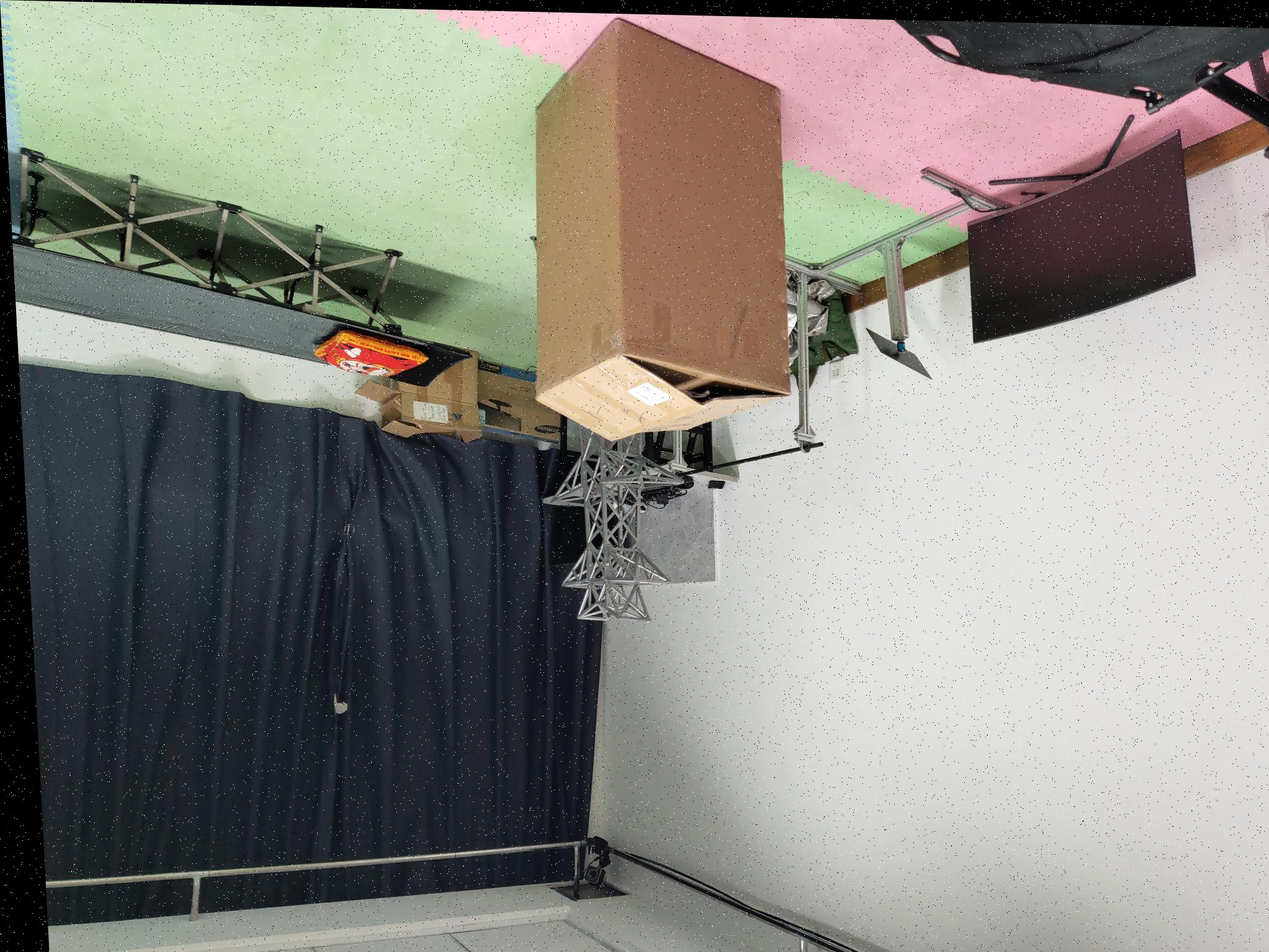tower: (532, 434, 697, 626)
